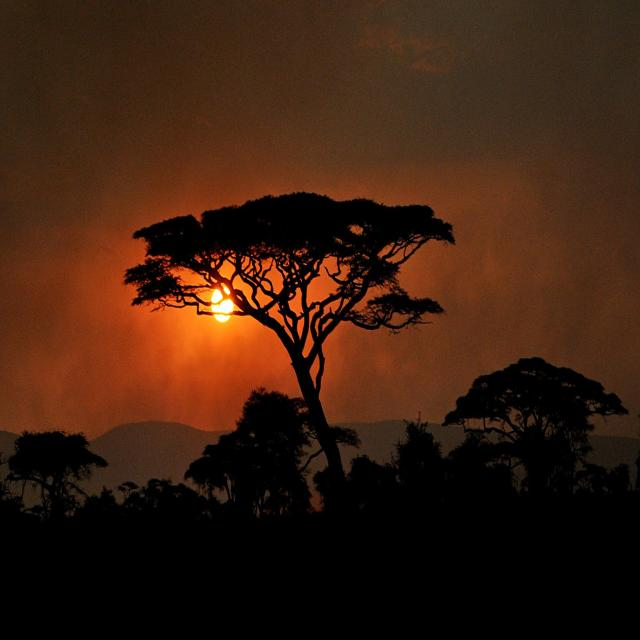Acacia: (126, 155, 430, 490), (458, 298, 626, 486), (9, 404, 107, 526)
